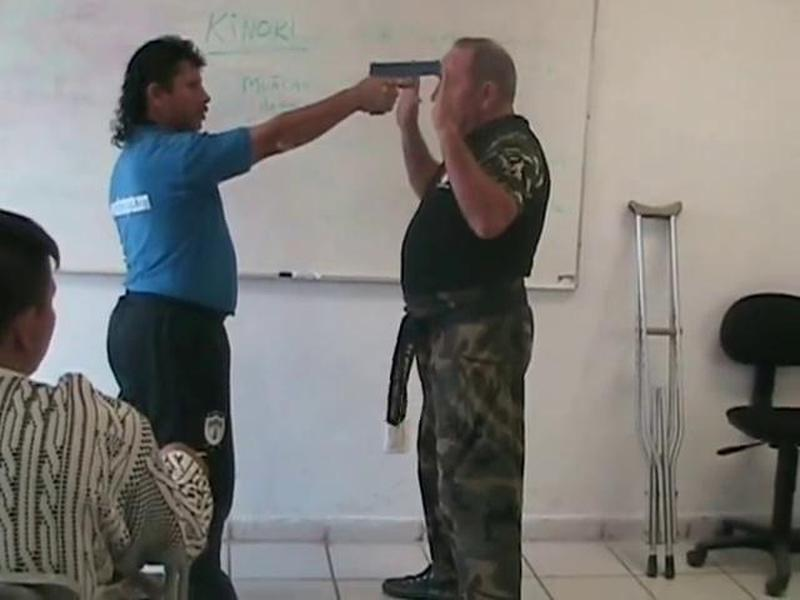Pistola: (365, 47, 445, 90)
